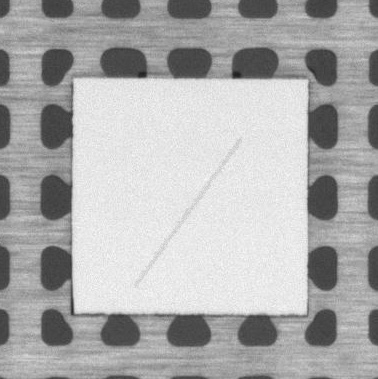DIE_CRACK: (135, 139, 240, 287)
